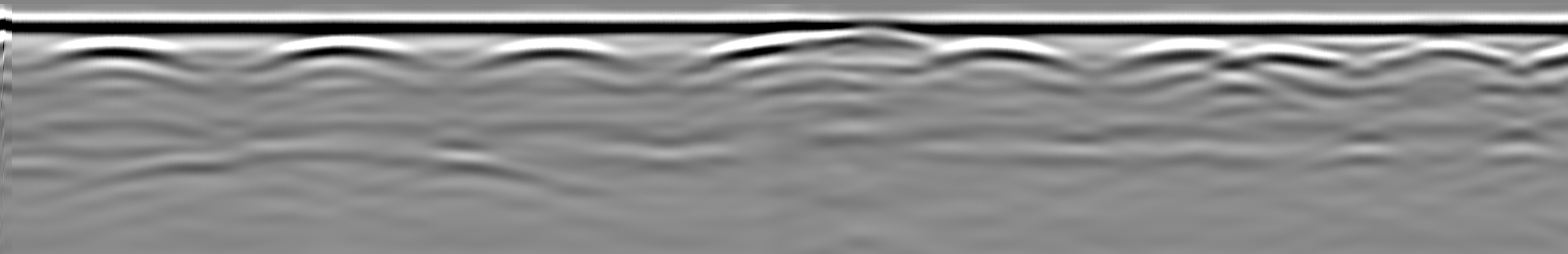pipe: (786, 22, 943, 69)
steel: (462, 34, 641, 81), (252, 34, 433, 77), (30, 35, 208, 78), (1366, 42, 1522, 82), (931, 35, 1075, 74), (678, 34, 805, 78), (1104, 34, 1228, 70), (1216, 45, 1356, 76)
